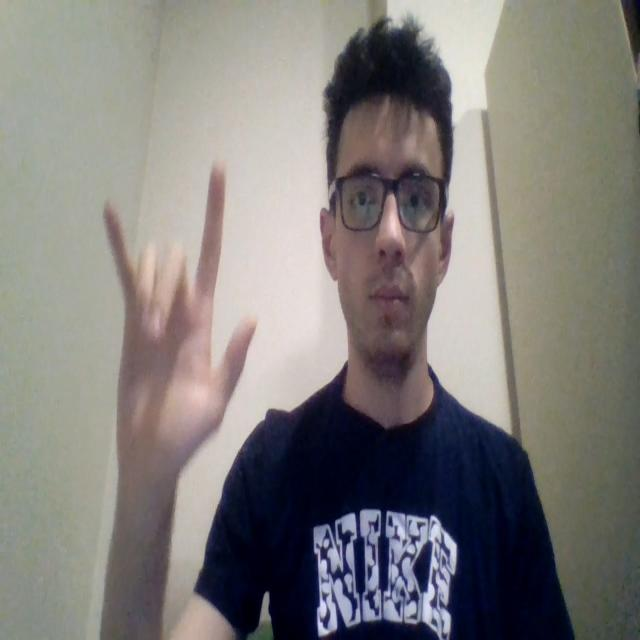iloveyou: (102, 157, 258, 488)
